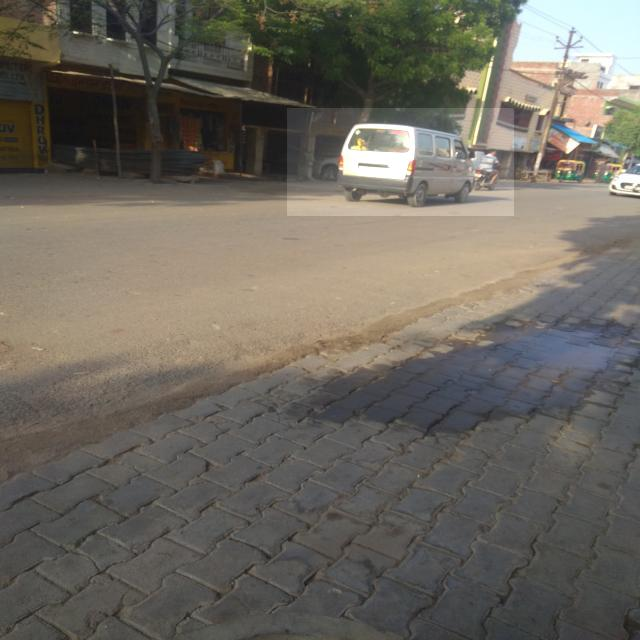Travller: (287, 108, 514, 216)
